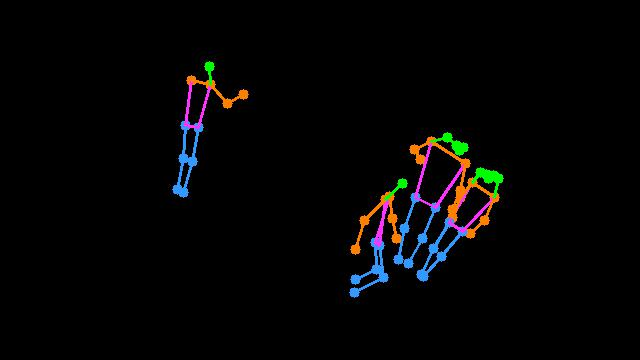normal: (333, 118, 522, 311)
